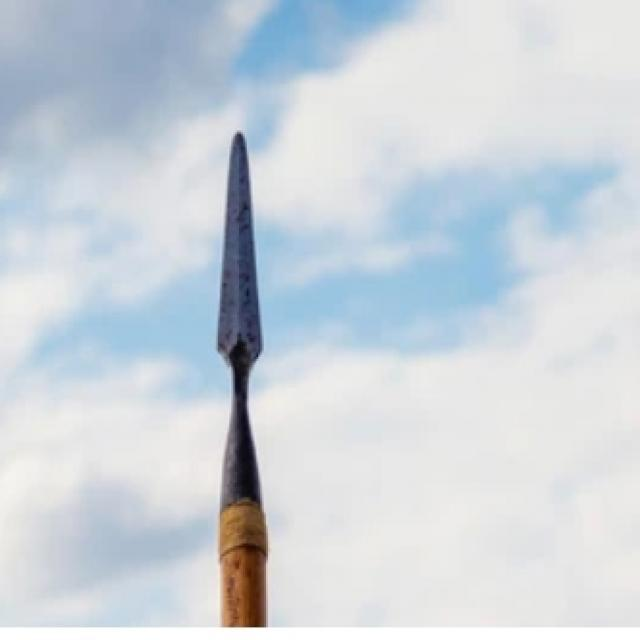spear: (203, 115, 285, 620)
